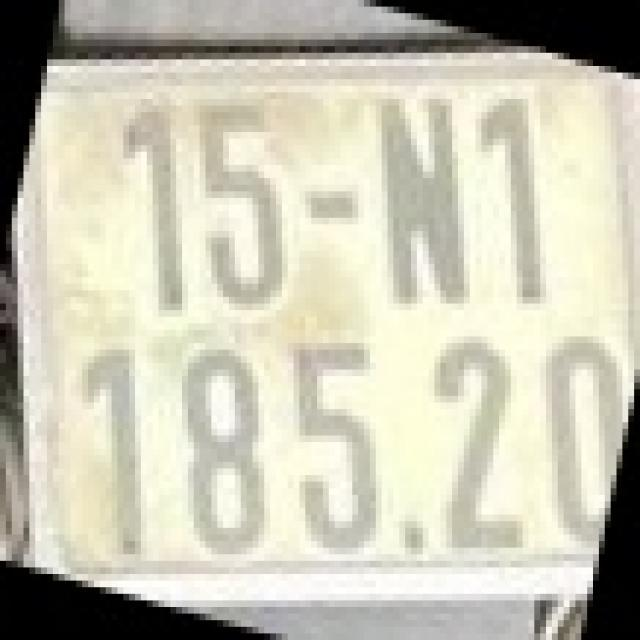0: (546, 333, 628, 544)
1: (112, 99, 194, 317), (76, 343, 153, 554), (476, 92, 552, 304)
2: (428, 330, 528, 554)
5: (194, 92, 294, 310), (288, 336, 382, 554)
8: (182, 343, 270, 554)
N: (376, 92, 470, 304)
